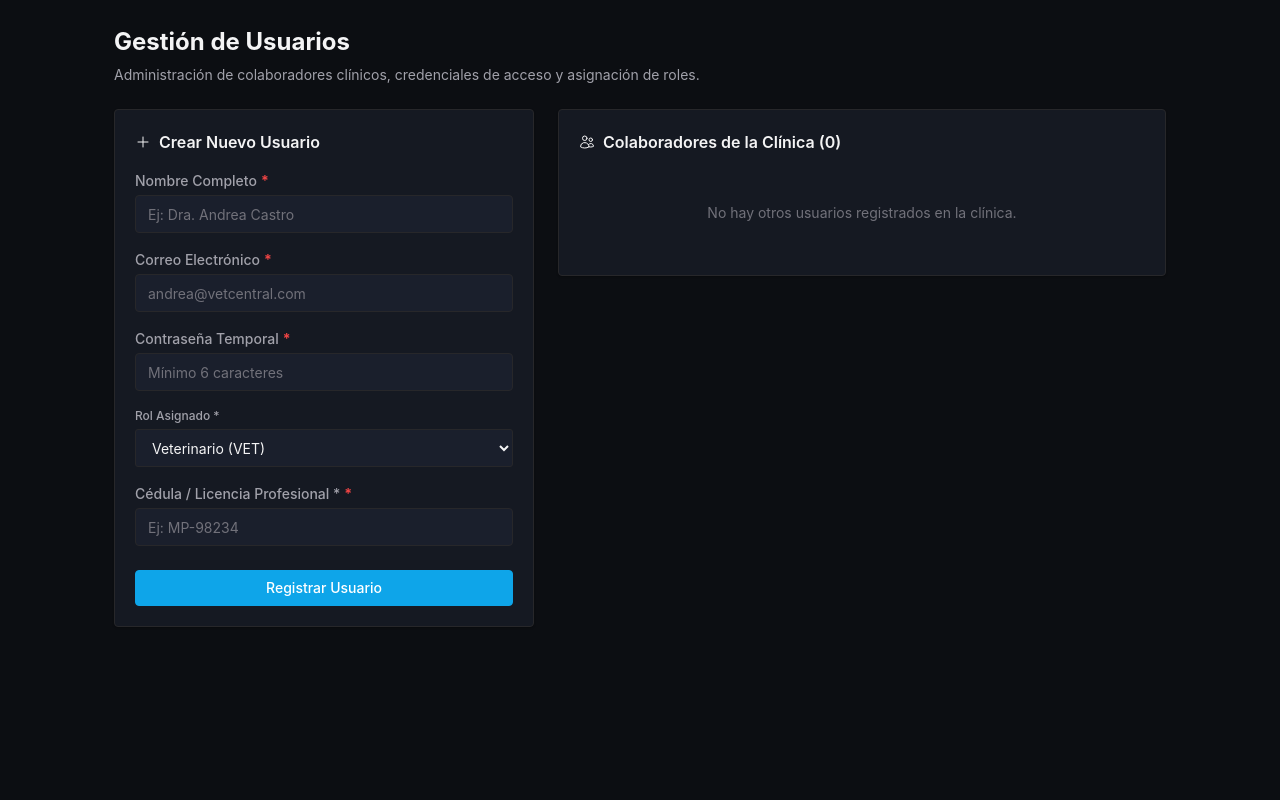
Test: UI Integration: Pantalla de Gestión de Usuarios (UsersScreen) › valida los campos con Zod y exige licenseNumber únicamente cuando el rol es VET
// Al enviar el formulario vacío, Zod debe emitir errores descriptivos en español
Click the button "Registrar Usuario" at coordinates (324, 588), box [135,570,513,606]
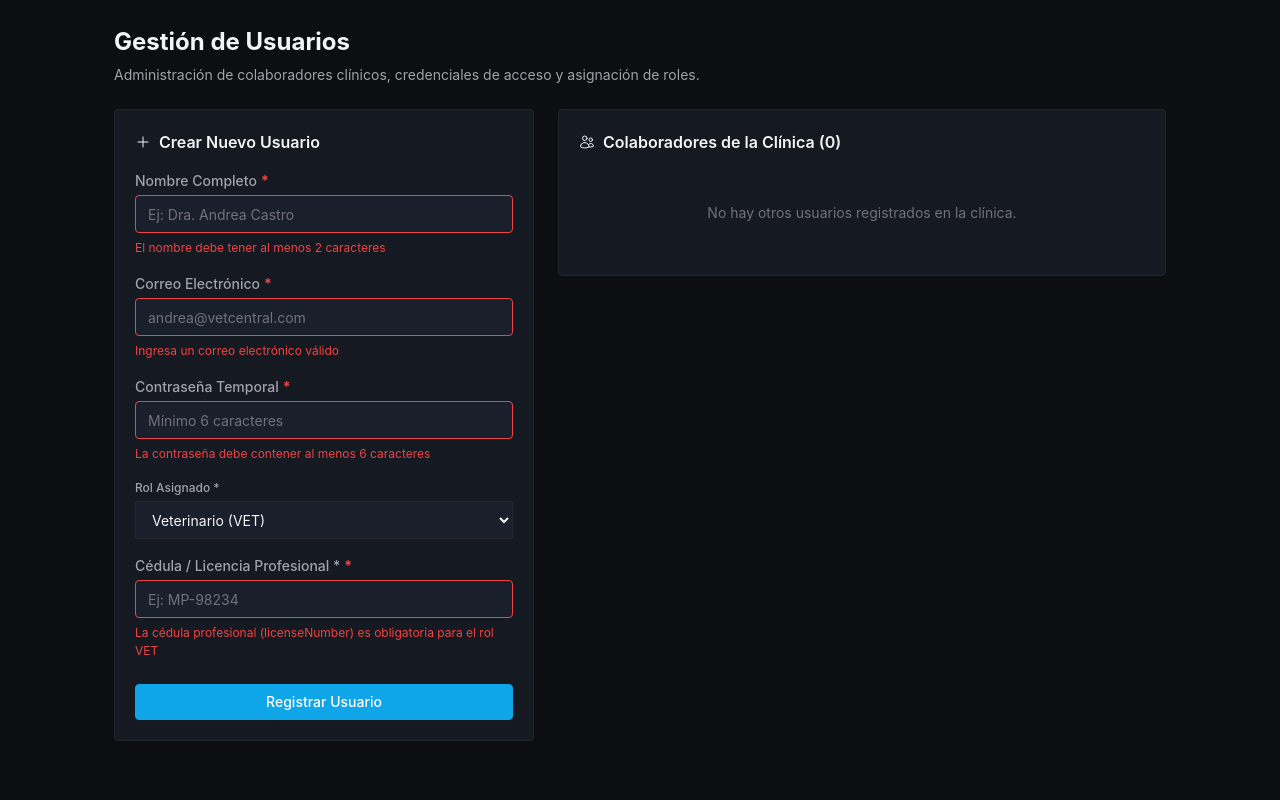
expect the text "El nombre debe tener al menos 2 caracteres" is shown: met, box [135,240,386,255]
expect the text "Ingresa un correo electrónico válido" is shown: met, box [135,343,339,358]
expect the text "La contraseña debe contener al menos 6 caracteres" is shown: met, box [135,446,430,461]
// Cambiar el rol a RECEPTIONIST: el campo de cédula ya no debe ser requerido
Select "Recepcionista (RECEPTIONIST)" in the dropdown labelled "Rol Asignado *" at coordinates (324, 520), box [135,501,513,539]
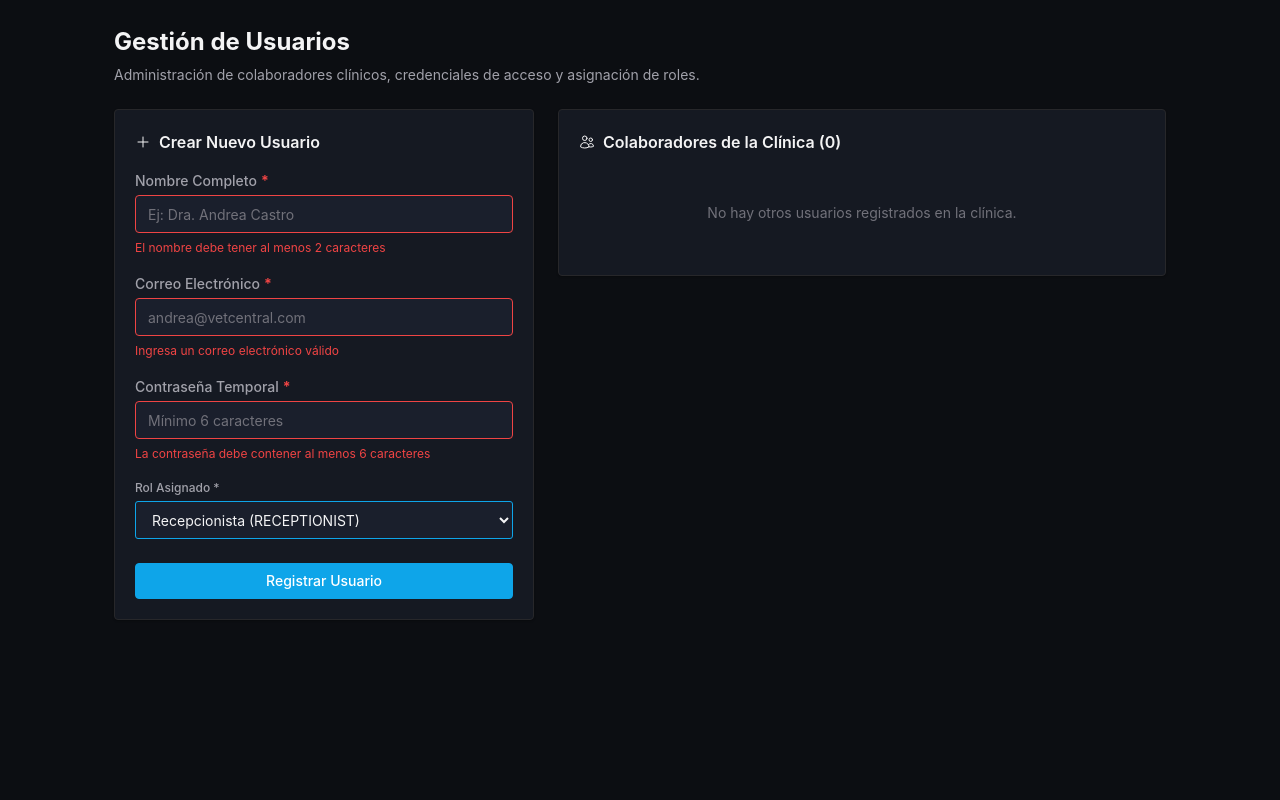
expect the text labelled "Cédula / Licencia Profesional" is gone: met
